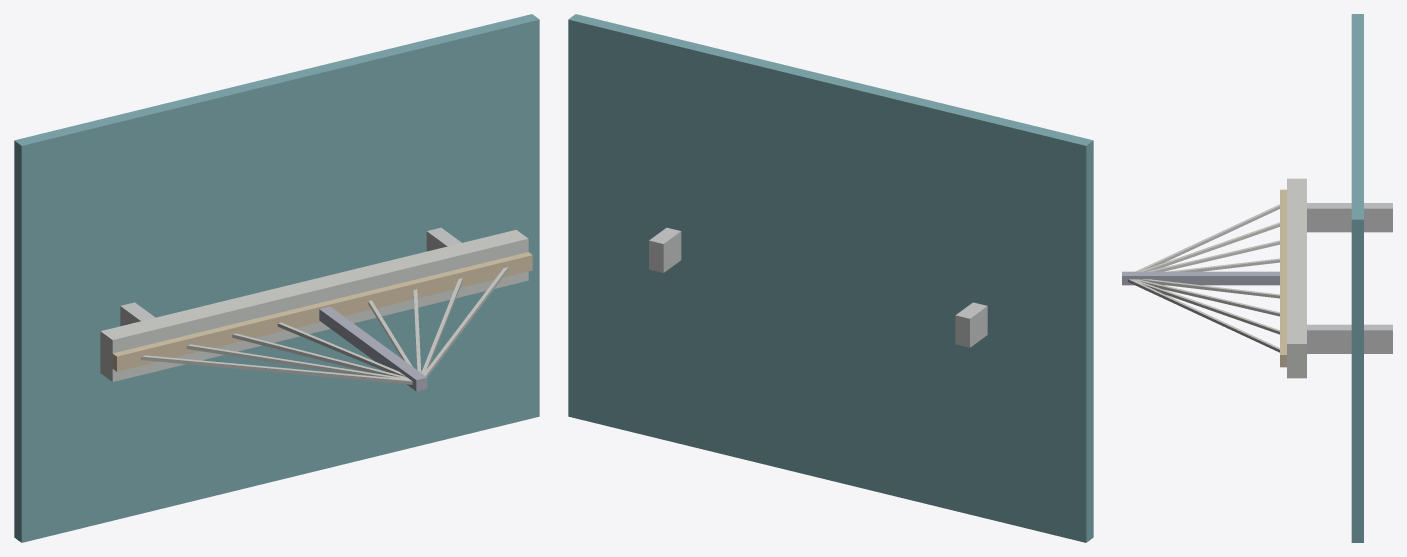
3 views of the same model, side by side, from view 1: azimuth 30°, elevation 25°; view 2: azimuth 150°, elevation 25°; view 3: azimuth 270°, elevation 25° (orthographic). The views are drawn at different scales.
Visible parts, largest first — view 1: section_00, section_01, section_02, section_05, section_06, section_07, section_08, section_13, section_09; view 2: section_00, section_04, section_03; view 3: section_00, section_01, section_03, section_04, section_05, section_02, section_13, section_06, section_12, section_07, section_11, section_10 (+2 smaller).
Boxes of the visible parts, x1,y1,x2,y2 form: section_00: (14,14,539,542); section_01: (100,230,528,381); section_02: (112,252,532,371); section_05: (319,306,427,391); section_06: (141,355,412,384); section_07: (186,344,408,379); section_08: (232,333,409,379); section_13: (424,267,508,377); section_09: (277,322,405,376); section_00: (568,14,1093,542); section_04: (649,227,681,272); section_03: (955,302,987,347); section_00: (1351,14,1363,542); section_01: (1287,178,1306,378); section_03: (1307,203,1392,232); section_04: (1307,324,1392,353); section_05: (1122,271,1279,285); section_02: (1280,189,1286,367); section_13: (1128,279,1279,352); section_06: (1135,204,1279,271); section_12: (1133,279,1279,334); section_07: (1139,222,1279,271); section_11: (1135,279,1279,316); section_10: (1139,279,1279,298).
Size of the model in its own units: 7.1 by 5.2 by 3.95.
